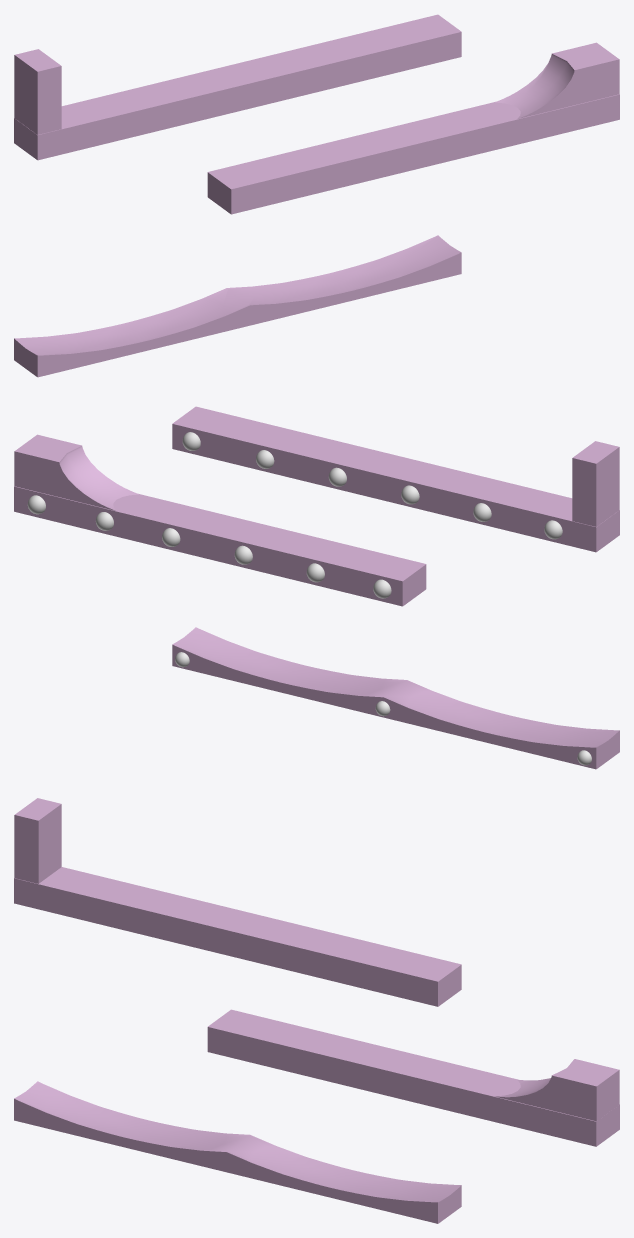
3 renders of one model, top to bottom at view 1: azimuth 30°, elevation 25°; view 2: azimuth 150°, elevation 25°; view 3: azimuth 330°, elevation 25°, orthographic.
Visible parts, largest first — view 1: polySurface4; view 2: polySurface4; view 3: polySurface4.
Part boxes in pixels (bbox=[...]): polySurface4: bbox=[14, 14, 619, 377]; polySurface4: bbox=[14, 406, 619, 769]; polySurface4: bbox=[14, 798, 619, 1223].
Bounding box in the file's own units: 14.22 × 7.13 × 1.21.
